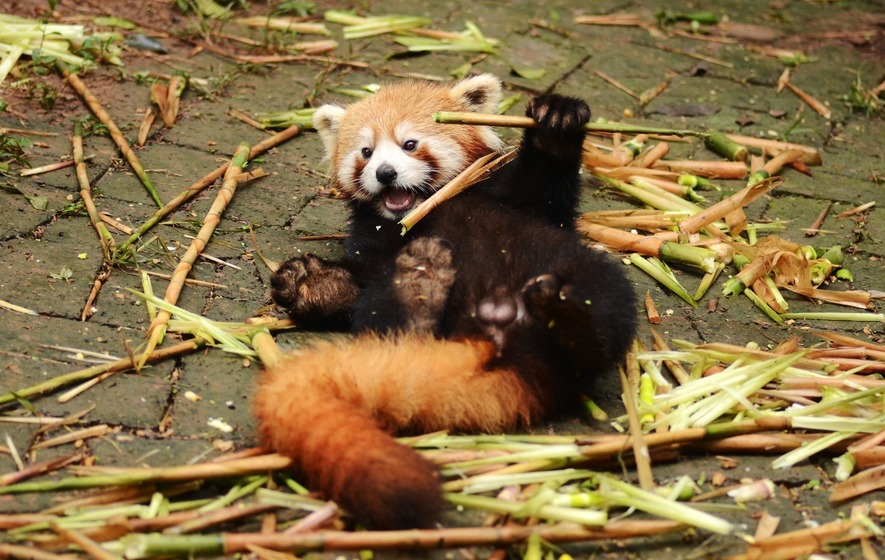red_panda: (251, 77, 638, 526)
